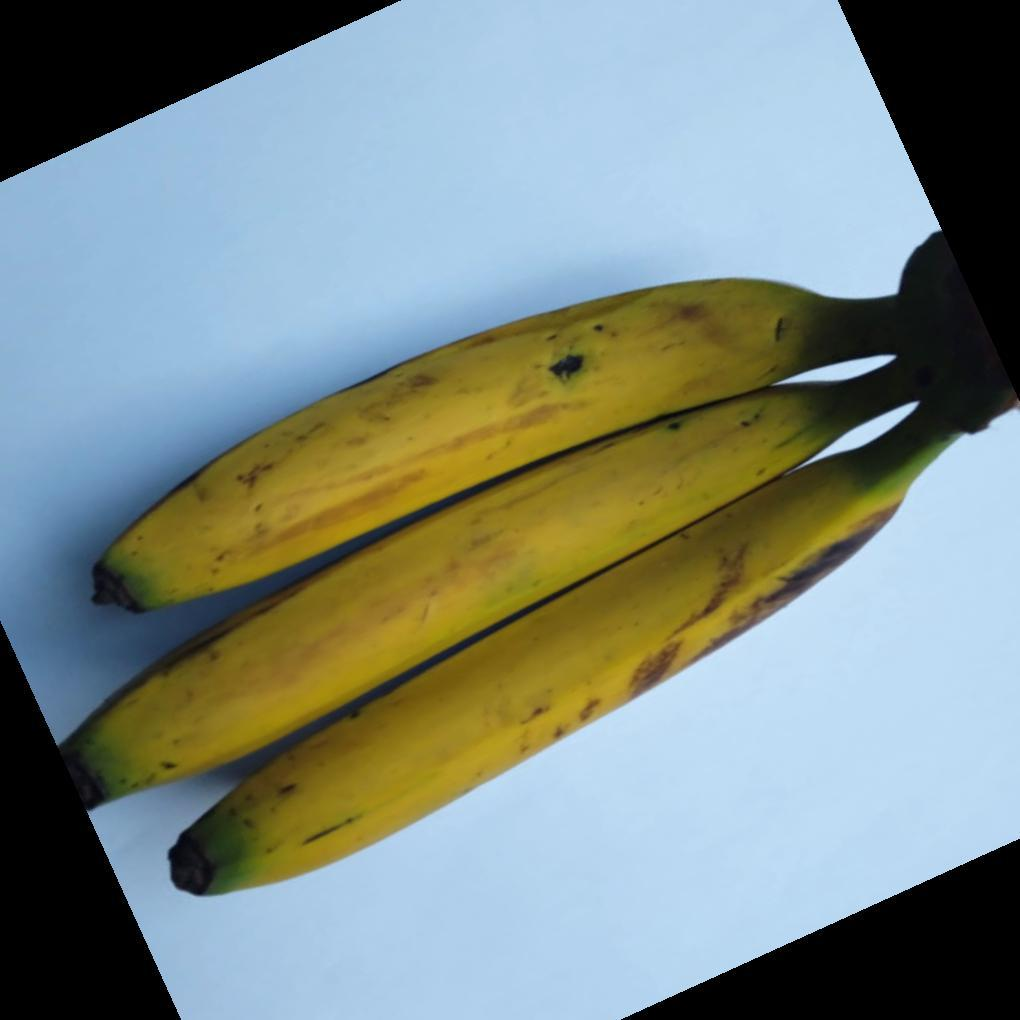Banana Ripe: (88, 260, 967, 889)
